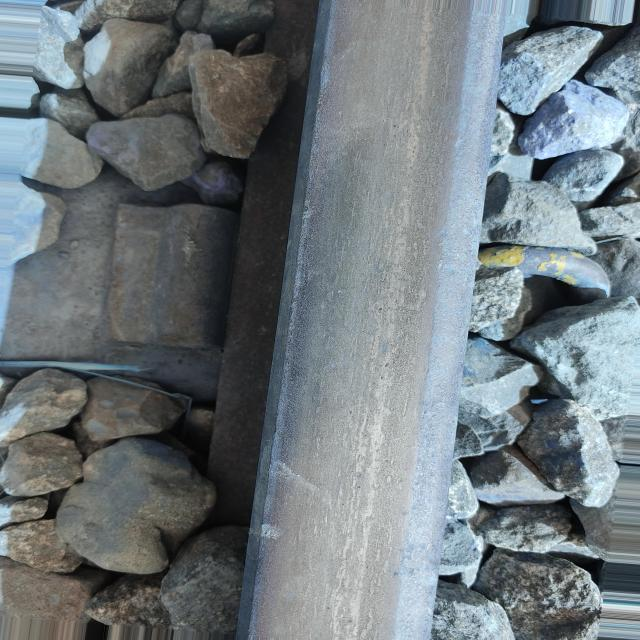Good Fasteners: (478, 245, 611, 297)
Missing Fastener: (31, 175, 272, 413)
